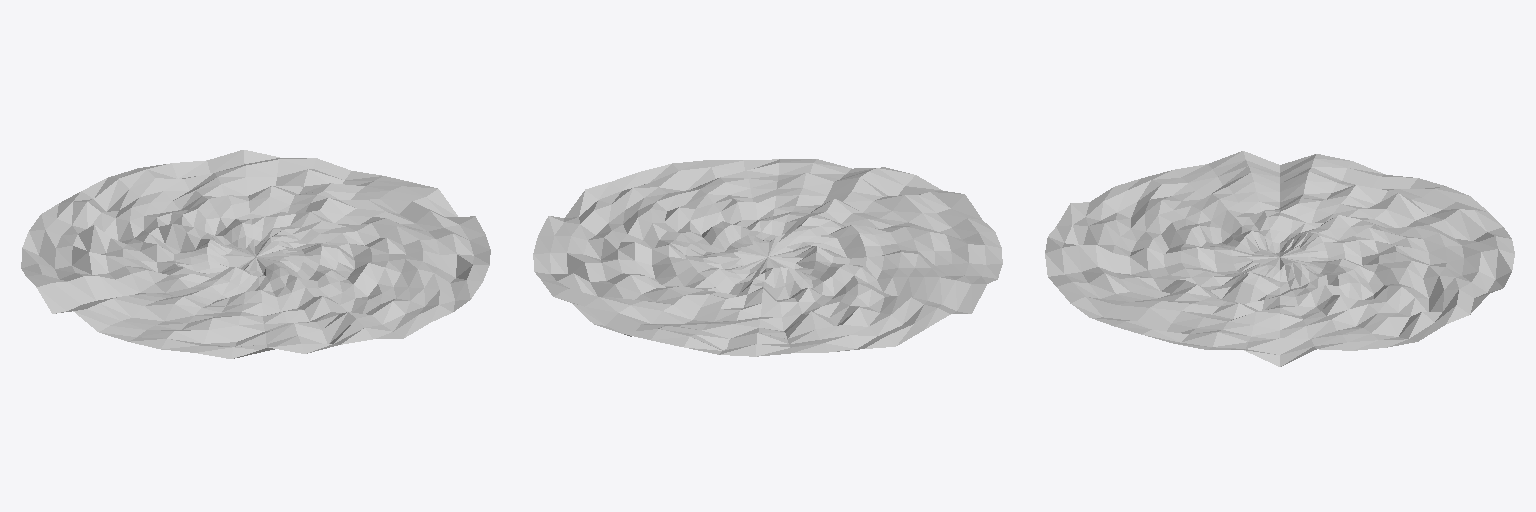
File: earth.obj
3 views of the same model, side by side, from view 1: azimuth 30°, elevation 25°; view 2: azimuth 150°, elevation 25°; view 3: azimuth 270°, elevation 25° (orthographic).
Parts seen in each view (by area): view 1: Arch41_009; view 2: Arch41_009; view 3: Arch41_009.
Part boxes in pixels (x1,y1,x2,y2): Arch41_009: (21, 150, 490, 358); Arch41_009: (533, 159, 1002, 356); Arch41_009: (1045, 151, 1514, 366).
Size of the model in its own units: 0.1478 by 0.0091 by 0.1478.